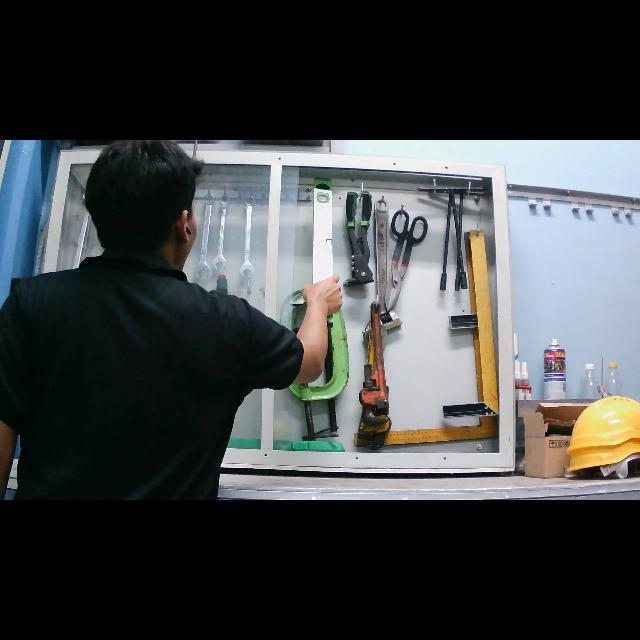water_pass: (307, 174, 337, 326)
